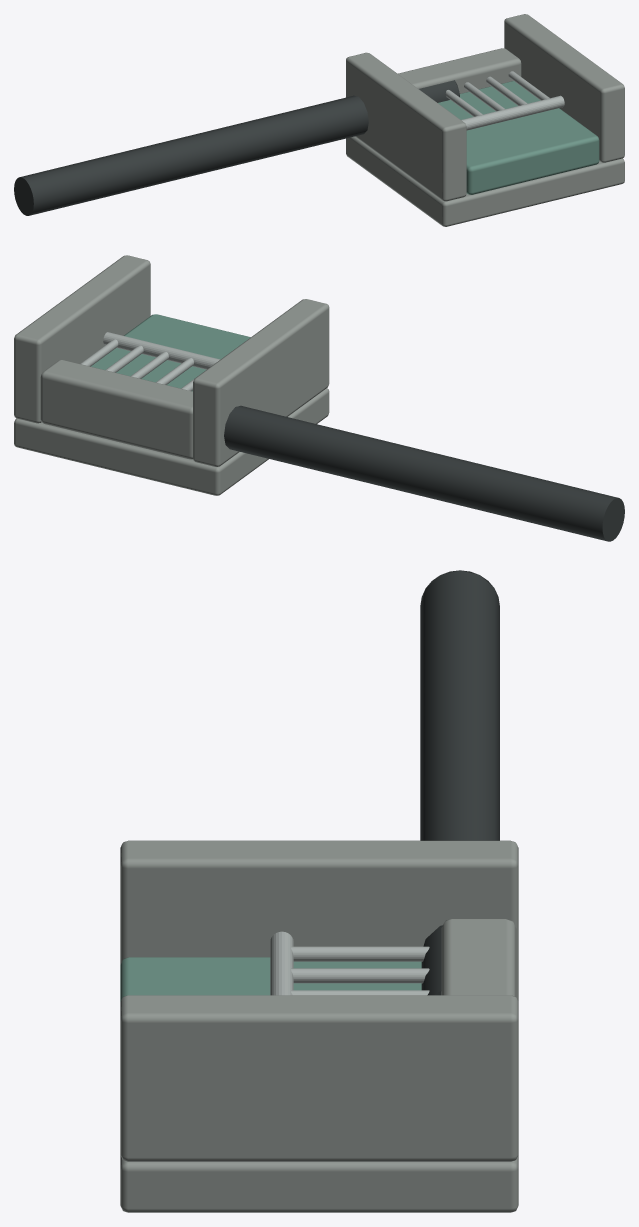
Rendered from canal-boats-and-lock-operations-canal-boats-and-lock-o-d10da37d__31638.glb.
The picture shows the model from 3 angles, top to bottom: view 1: azimuth 30°, elevation 25°; view 2: azimuth 150°, elevation 25°; view 3: azimuth 270°, elevation 25°; orthographic projection. The views are drawn at different scales.
Visible parts, largest first — view 1: canal-boats-and-lock-operations-bywash-overflow-inlet; view 2: canal-boats-and-lock-operations-bywash-overflow-inlet; view 3: canal-boats-and-lock-operations-bywash-overflow-inlet.
Part boxes in pixels (x1,y1,x2,y2): canal-boats-and-lock-operations-bywash-overflow-inlet: (14,14,624,226); canal-boats-and-lock-operations-bywash-overflow-inlet: (14,255,624,541); canal-boats-and-lock-operations-bywash-overflow-inlet: (120,570,518,1212).
Bounding box in the file's own units: 2.55 × 0.4701 × 0.85.
